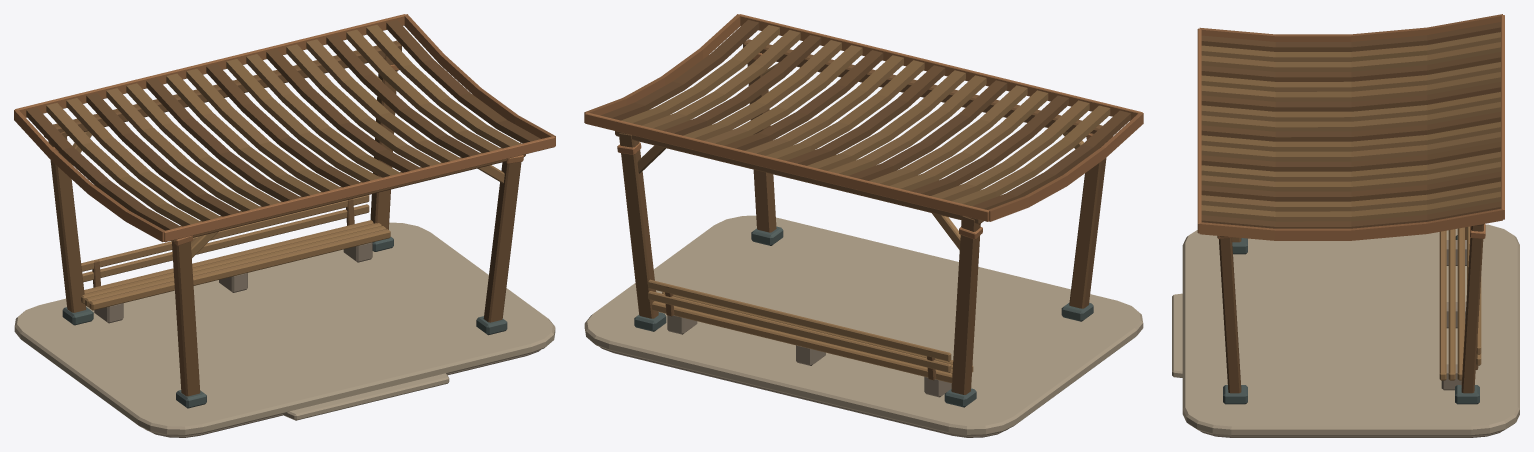
File: garden-shelter.glb
3 views of the same model, side by side, from view 1: azimuth 30°, elevation 25°; view 2: azimuth 150°, elevation 25°; view 3: azimuth 270°, elevation 25° (orthographic). The views are drawn at different scales.
Parts seen in each view (by area): view 1: garden-shelter; view 2: garden-shelter; view 3: garden-shelter.
Part boxes in pixels (x1,y1,x2,y2): garden-shelter: [14, 14, 555, 437]; garden-shelter: [584, 14, 1143, 437]; garden-shelter: [1172, 14, 1519, 437].
Bounding box in the file's own units: 7.2 × 3.72 × 5.16.
